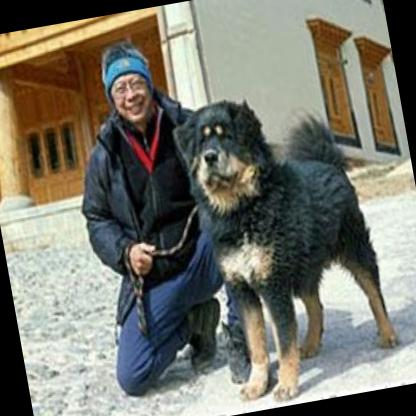Tibetan_mastiff: (167, 76, 402, 409)
